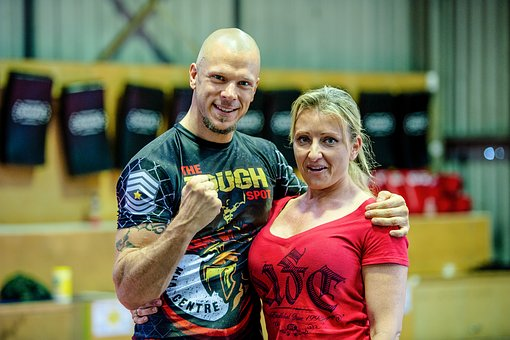fist: (177, 177, 224, 226)
